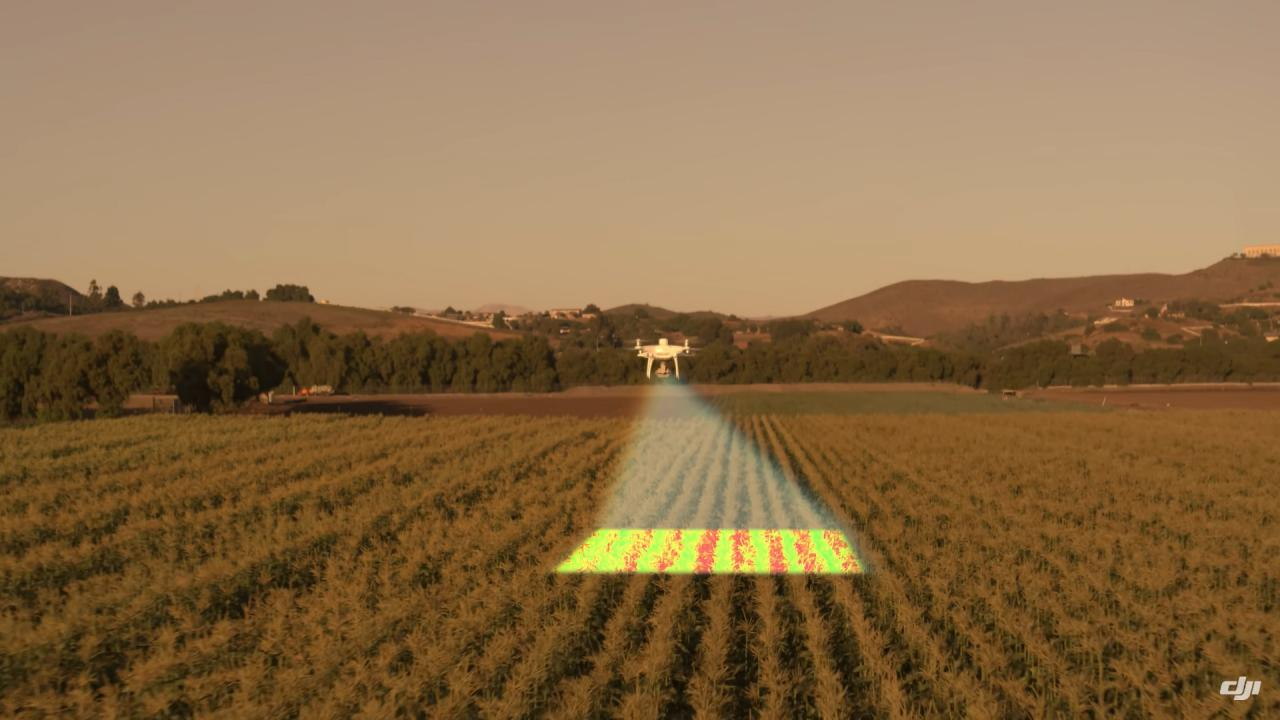Drone: (618, 330, 702, 384)
